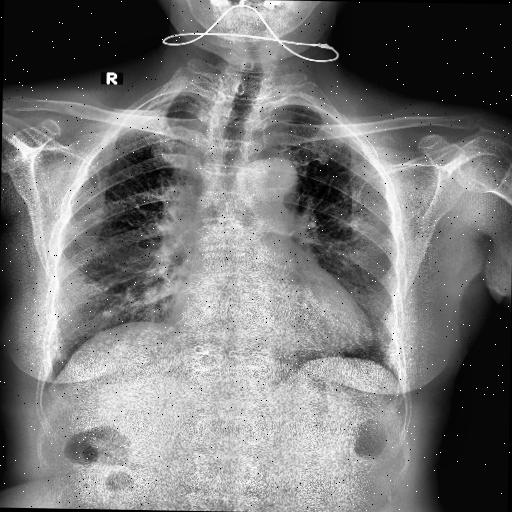0- Aortic enlargement: (236, 158, 299, 196), (244, 158, 300, 200), (246, 157, 298, 196)
11- Pleural thickening: (133, 86, 212, 118), (335, 120, 364, 148)
2- Calcification: (100, 310, 115, 320)
3- Cardiomegaly: (170, 286, 372, 359), (172, 291, 374, 357), (169, 302, 375, 358)
8- Nodule-Mass: (100, 310, 115, 320), (102, 311, 114, 318)
